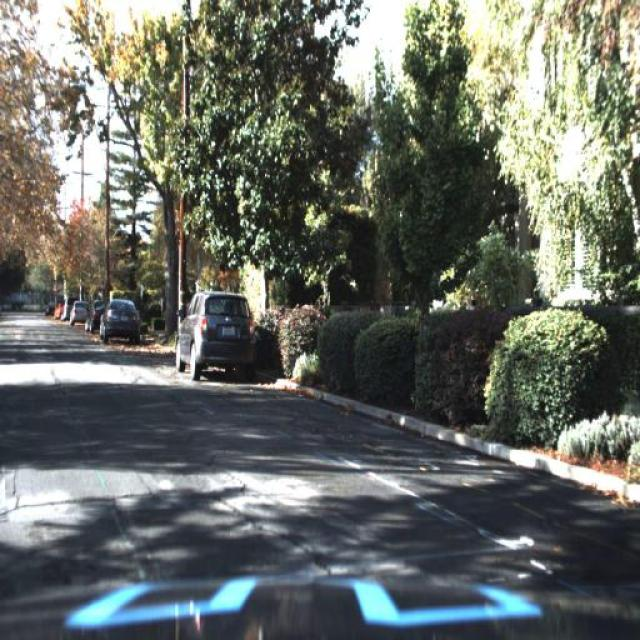car: (165, 277, 274, 398), (96, 292, 148, 352), (84, 295, 105, 343), (68, 290, 88, 332)
